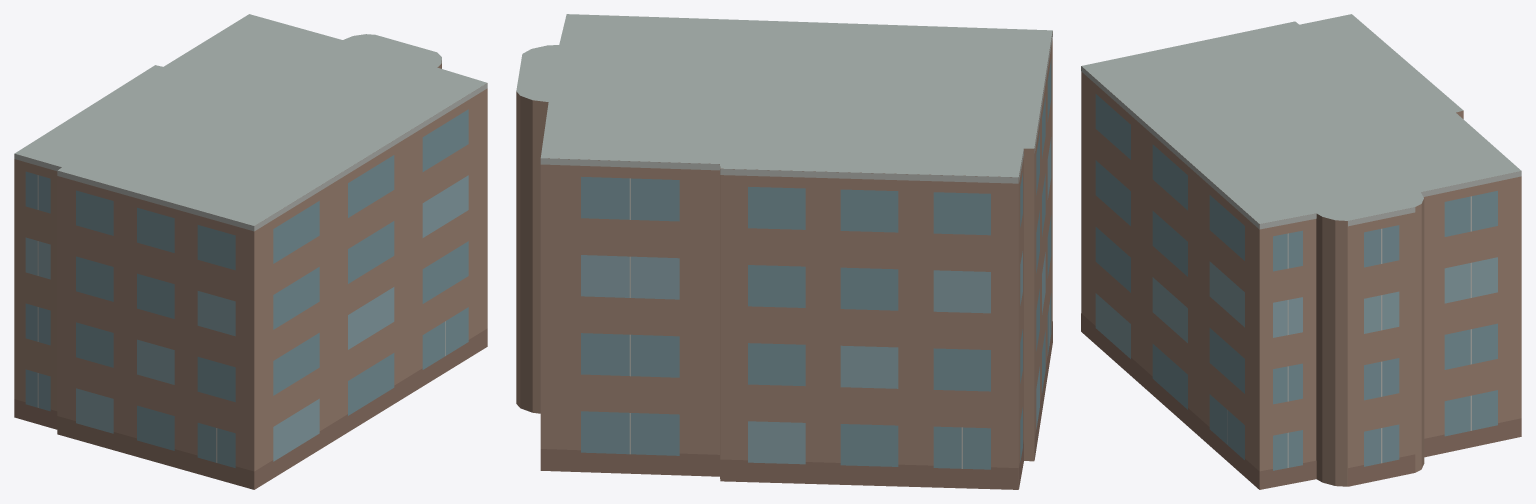
Rendered from survey-upis-32799924.glb.
3 renders of one model, left to right at view 1: azimuth 30°, elevation 25°; view 2: azimuth 150°, elevation 25°; view 3: azimuth 270°, elevation 25°, orthographic. The views are drawn at different scales.
Parts seen in each view (by area): view 1: survey-upis-32799924.tmp; view 2: survey-upis-32799924.tmp; view 3: survey-upis-32799924.tmp.
Part boxes in pixels (x1=…): survey-upis-32799924.tmp: x1=14, y1=14, x2=487, y2=489; survey-upis-32799924.tmp: x1=516, y1=14, x2=1052, y2=489; survey-upis-32799924.tmp: x1=1081, y1=14, x2=1521, y2=489.
Bounding box in the file's own units: 20.36 × 12 × 18.03.
